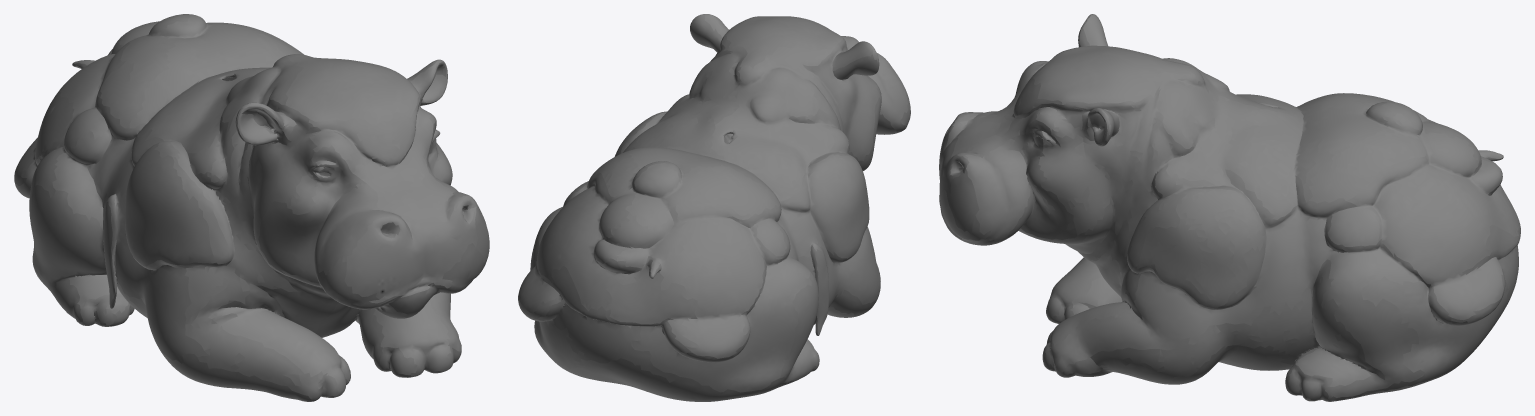
Rendered from completion_tapir_1.glb.
3 renders of one model, left to right at view 1: azimuth 30°, elevation 25°; view 2: azimuth 150°, elevation 25°; view 3: azimuth 270°, elevation 25°, orthographic. The views are drawn at different scales.
Visible parts, largest first — view 1: geometry_0; view 2: geometry_0; view 3: geometry_0.
Boxes of the visible parts, x1,y1,x2,y2 form: geometry_0: (14, 14, 489, 401); geometry_0: (518, 14, 910, 401); geometry_0: (939, 14, 1520, 401).
Size of the model in its own units: 0.6041 by 0.5373 by 1.
1 material, 1 textured.
